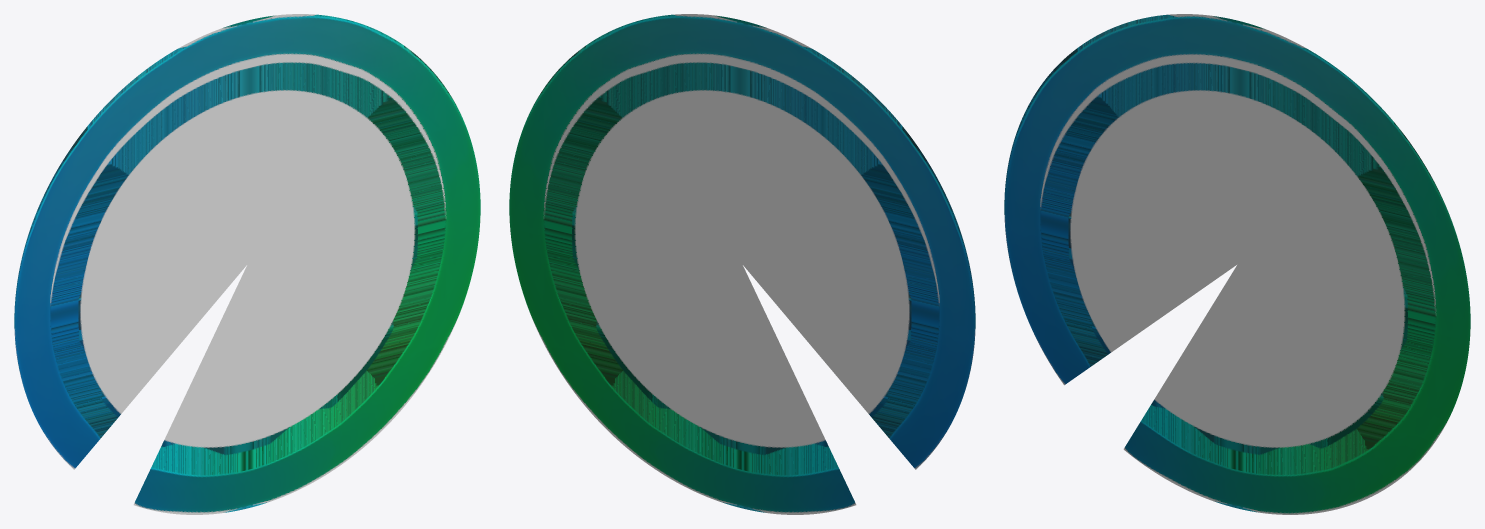
Rendered from site_arc_r1.glb.
3 views of the same model, side by side, from view 1: azimuth 30°, elevation 25°; view 2: azimuth 150°, elevation 25°; view 3: azimuth 330°, elevation 25° (orthographic).
Visible parts, largest first — view 1: TGDEVS_ARC_MESH; view 2: TGDEVS_ARC_MESH; view 3: TGDEVS_ARC_MESH.
Part boxes in pixels (x1,y1,x2,y2): TGDEVS_ARC_MESH: (14, 14, 480, 514); TGDEVS_ARC_MESH: (509, 14, 975, 514); TGDEVS_ARC_MESH: (1004, 14, 1470, 514).
Size of the model in its own units: 2 by 2 by 4.44e-16.
Materials: 1 (1 with a texture image).
